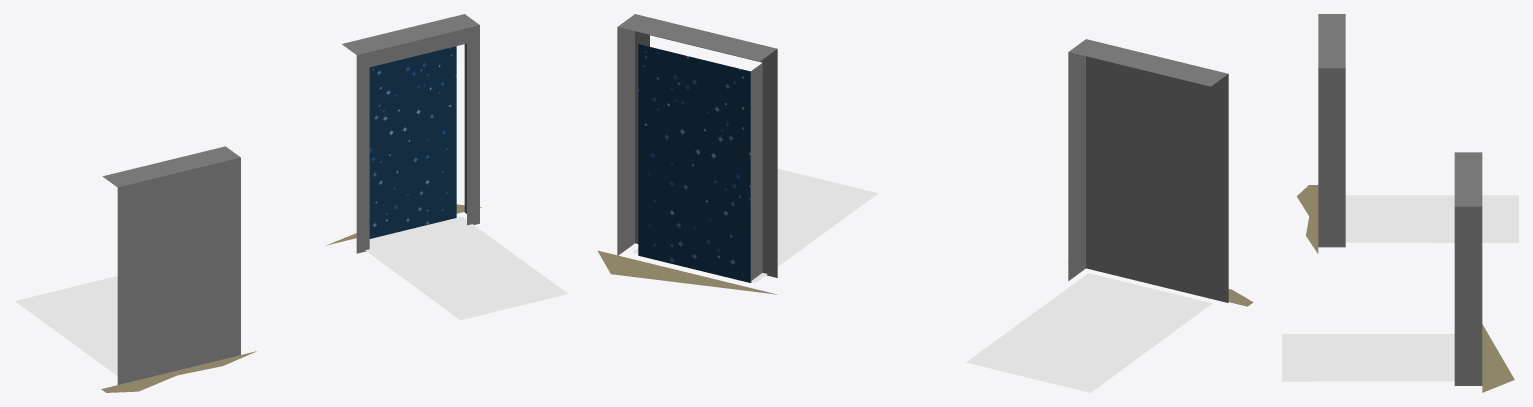
Rendered from Portal_1.fbx.
3 views of the same model, side by side, from view 1: azimuth 30°, elevation 25°; view 2: azimuth 150°, elevation 25°; view 3: azimuth 270°, elevation 25° (orthographic). The views are drawn at different scales.
Parts seen in each view (by area): view 1: polySurface7604, polySurface7602; view 2: polySurface7602, polySurface7604; view 3: polySurface7604, polySurface7602.
Boxes of the visible parts, <box> form: polySurface7604: <box>326,14,567,320</box>; polySurface7602: <box>15,146,257,392</box>; polySurface7602: <box>966,39,1253,392</box>; polySurface7604: <box>598,14,878,294</box>; polySurface7604: <box>1282,152,1514,392</box>; polySurface7602: <box>1297,14,1518,253</box>.
Size of the model in its own units: 300 by 121 by 144.
